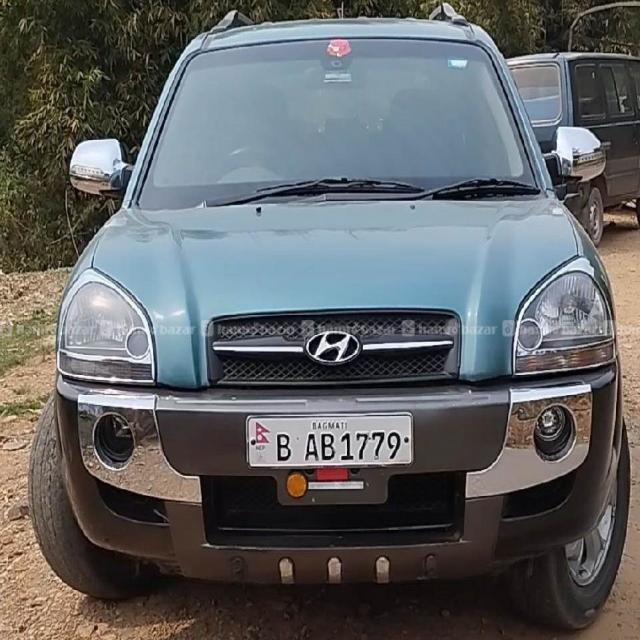License-plate: (242, 413, 417, 465)
